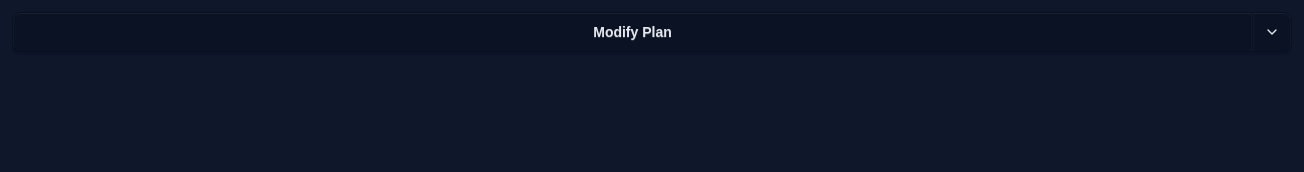
Scenario: clicking the arrow again closes the menu, and wide stretches the main half
The image size is (1304, 172).
Step 1. Click the button named "More Modify Plan options" → (1272, 32), box x1=1252 y1=12 x2=1292 y2=52
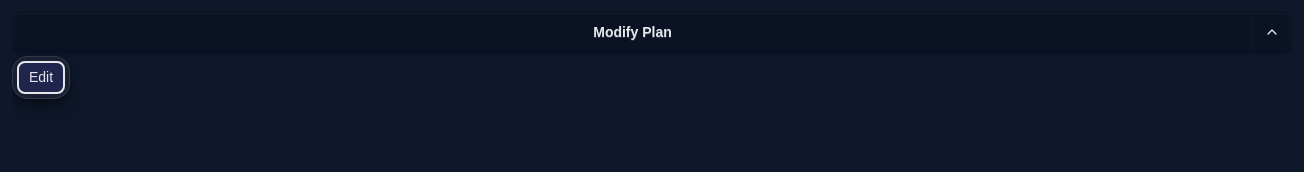
Check: the menu is shown, box x1=12 y1=56 x2=70 y2=99
Step 2. Click the button named "More Modify Plan options" → (1272, 32), box x1=1252 y1=12 x2=1292 y2=52
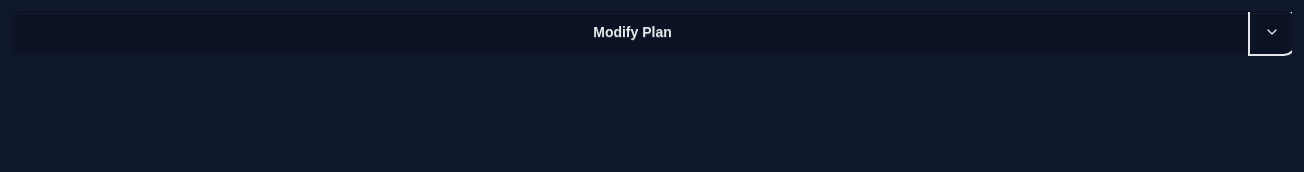
Check: the menu is gone
